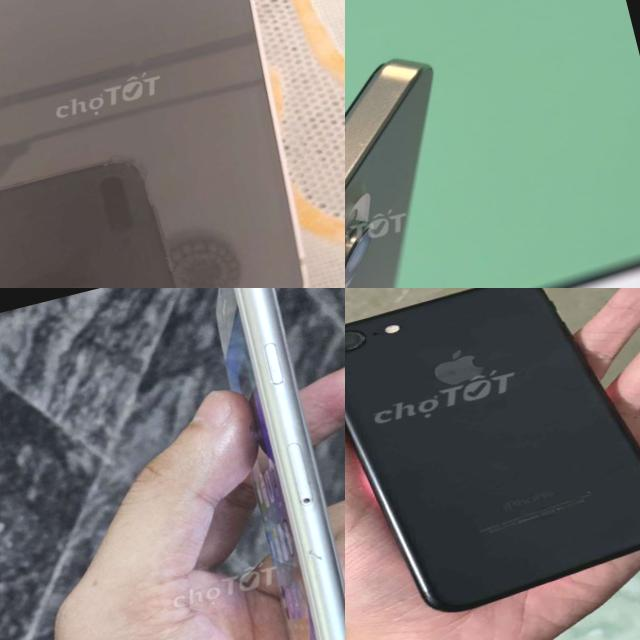scratch: (282, 534, 338, 578), (345, 322, 372, 353), (581, 482, 602, 500), (632, 525, 640, 544)
